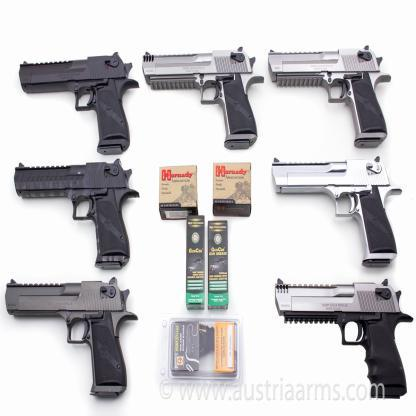Pistol: (274, 271, 414, 402), (270, 151, 404, 274), (5, 277, 136, 400), (12, 156, 142, 275), (17, 49, 142, 162), (140, 44, 267, 155), (267, 40, 394, 151)
